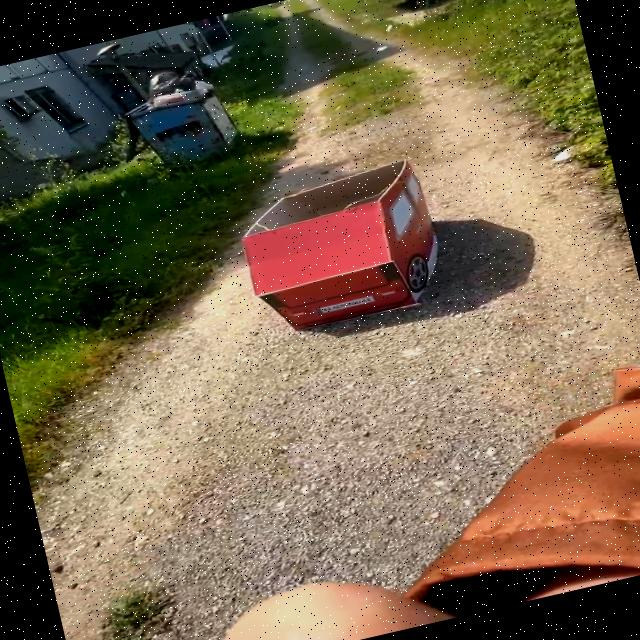red_car: (216, 144, 473, 363)
